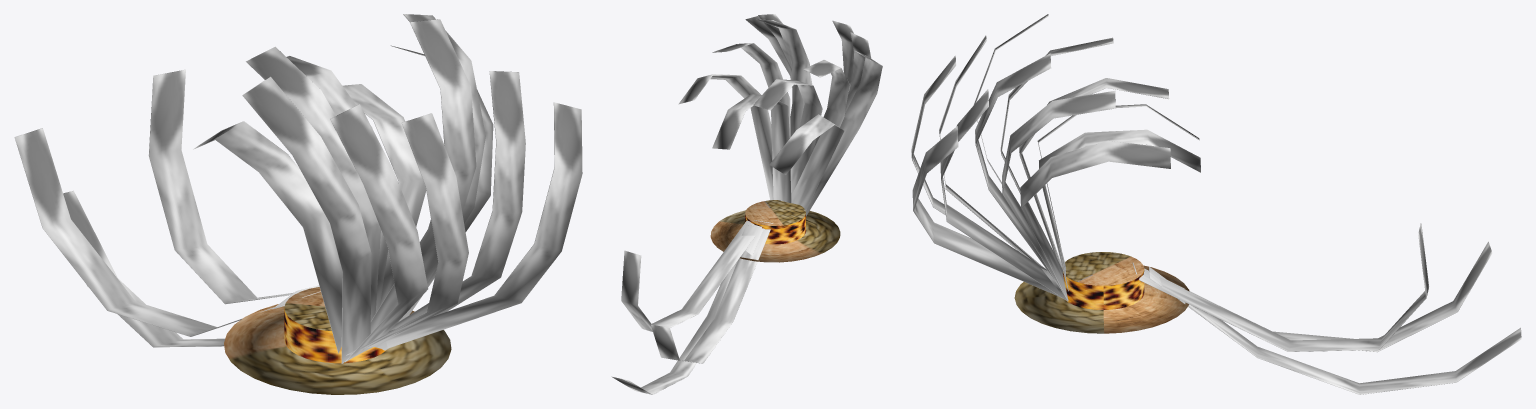
Rendered from helmet_com_3.dae.
The picture shows the model from 3 angles, left to right: view 1: azimuth 30°, elevation 25°; view 2: azimuth 150°, elevation 25°; view 3: azimuth 270°, elevation 25°; orthographic projection. The views are drawn at different scales.
Visible parts, largest first — view 1: helmet_com_3; view 2: helmet_com_3; view 3: helmet_com_3.
Part boxes in pixels (bbox=[...]): helmet_com_3: bbox=[14, 14, 582, 394]; helmet_com_3: bbox=[611, 14, 882, 394]; helmet_com_3: bbox=[911, 14, 1521, 394].
Bounding box in the file's own units: 1.41 × 3.5 × 2.21.
